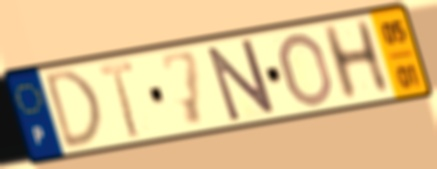7: (158, 48, 207, 131)
D: (43, 67, 108, 154)
H: (317, 16, 395, 106)
N: (204, 36, 279, 125)
O: (278, 30, 337, 110)
T: (95, 57, 141, 142)
